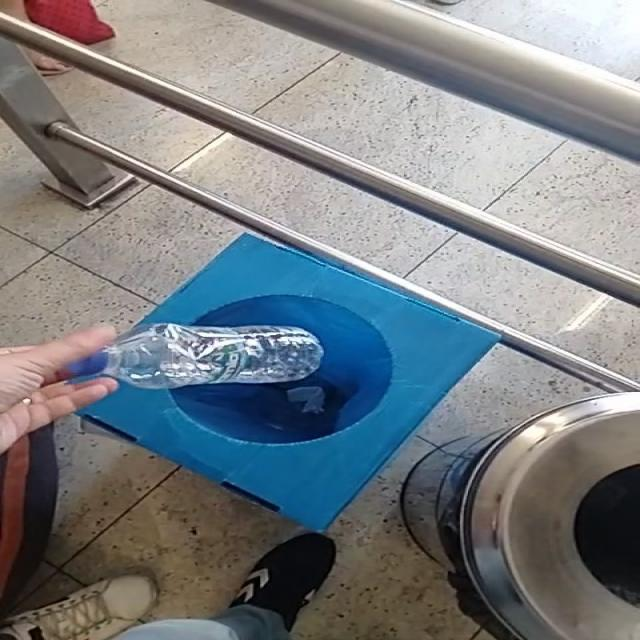Plastic: (68, 324, 324, 390)
